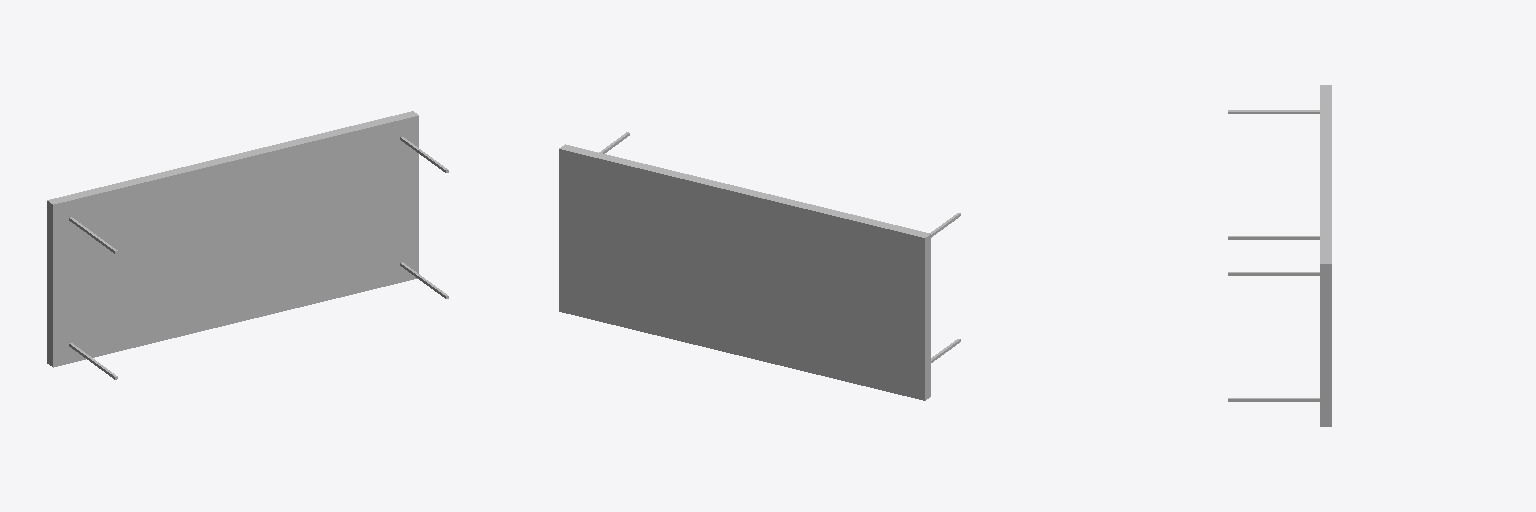
File: random_table87.obj
3 renders of one model, left to right at view 1: azimuth 30°, elevation 25°; view 2: azimuth 150°, elevation 25°; view 3: azimuth 270°, elevation 25°, orthographic.
Visible parts, largest first — view 1: Table_Cube.1500; view 2: Table_Cube.1500; view 3: Table_Cube.1500.
Boxes of the visible parts, box(x1,y1,x2,y2) form: Table_Cube.1500: box(47, 111, 418, 367); Table_Cube.1500: box(559, 144, 930, 400); Table_Cube.1500: box(1320, 85, 1331, 426).
Bounding box in the file's own units: 13.66 × 5.8 × 3.34.